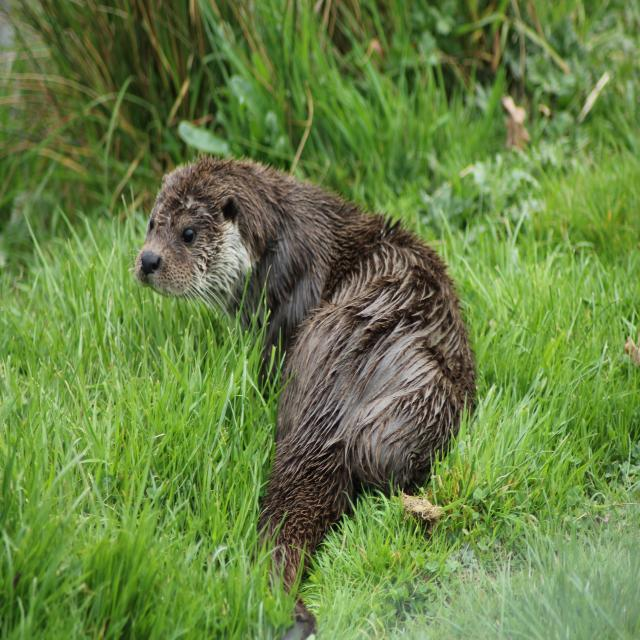otter: (136, 158, 474, 548)
